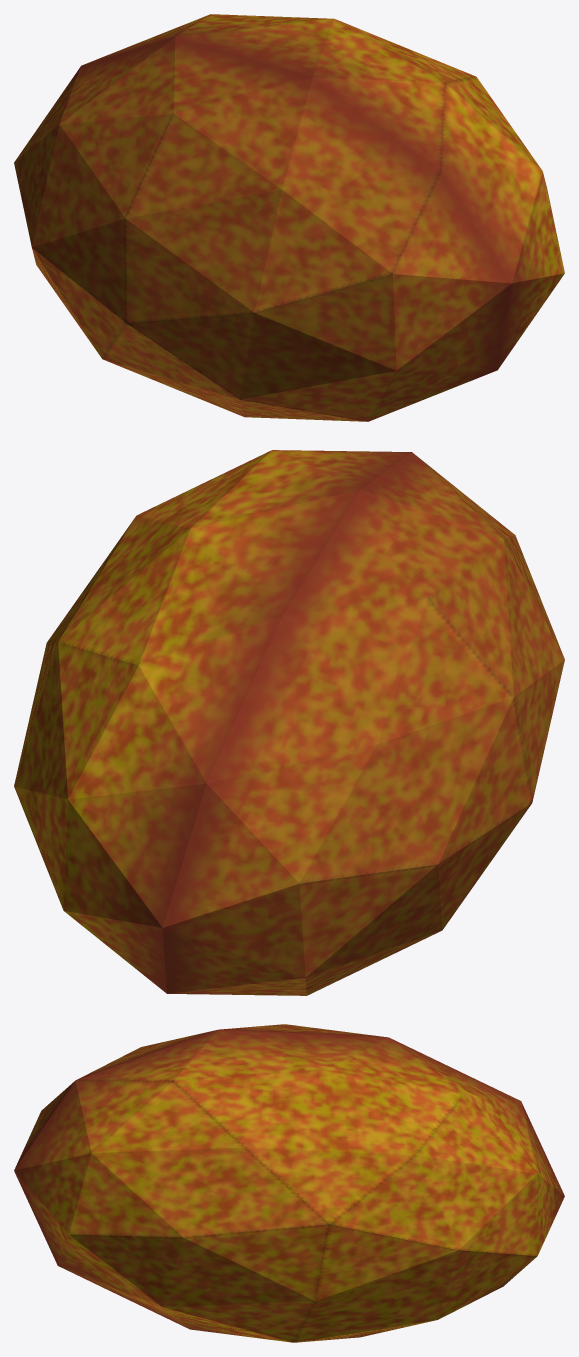
File: PaniPuri.fbx
3 views of the same model, one above another, from view 1: azimuth 30°, elevation 25°; view 2: azimuth 150°, elevation 25°; view 3: azimuth 270°, elevation 25° (orthographic). The views are drawn at different scales.
Parts seen in each view (by area): view 1: Icosphere.080; view 2: Icosphere.080; view 3: Icosphere.080.
Part boxes in pixels (bbox=[...]): Icosphere.080: bbox=[14, 14, 564, 421]; Icosphere.080: bbox=[14, 450, 564, 995]; Icosphere.080: bbox=[14, 1024, 564, 1342].
Bounding box in the file's own units: 18.53 × 16.16 × 27.62.
